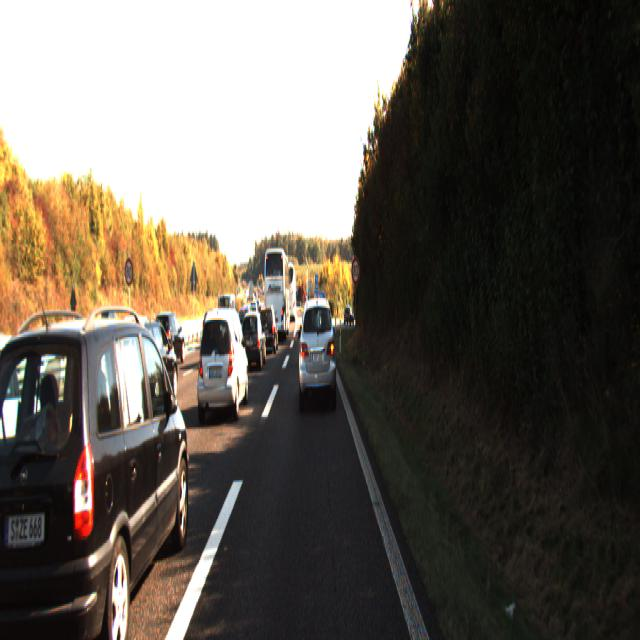Car: (0, 308, 193, 638), (0, 327, 76, 551), (112, 316, 179, 421), (196, 305, 249, 424), (298, 294, 336, 409), (110, 314, 163, 391), (263, 244, 290, 340), (152, 312, 186, 370), (239, 309, 266, 370), (258, 306, 279, 356), (217, 294, 236, 340)
